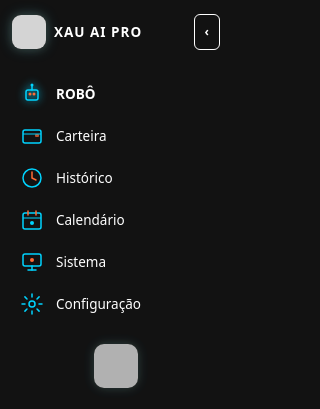
it: Sidebar — recolher e expandir sem perder o botao › PROVA: recolhido, o botao vira "Expandir menu" — e clicar volta
Step 1. Click the button named "Recolher menu" → (207,32), box [194, 14, 220, 50]
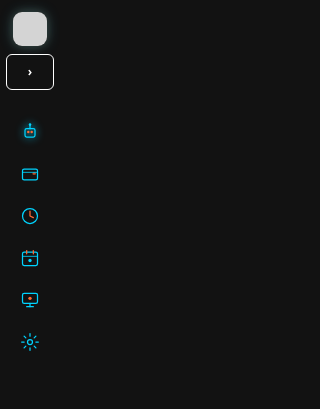
Check: the button named "Expandir menu" is shown
Step 2. Click the button named "Expandir menu" → (30,72), box [6, 54, 54, 90]
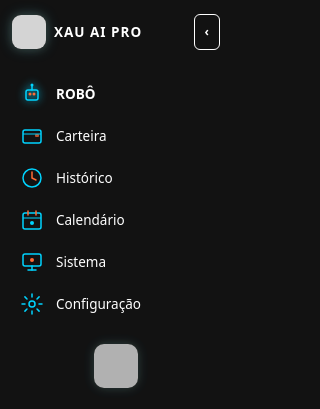
Check: the button named "Recolher menu" is shown, box [194, 14, 220, 50]
